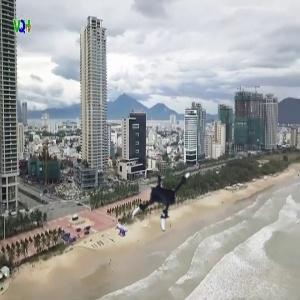drone: (127, 165, 205, 243)
